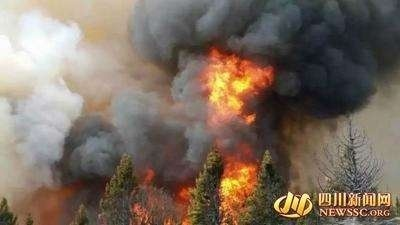fire: (199, 48, 277, 211), (205, 50, 274, 120)
